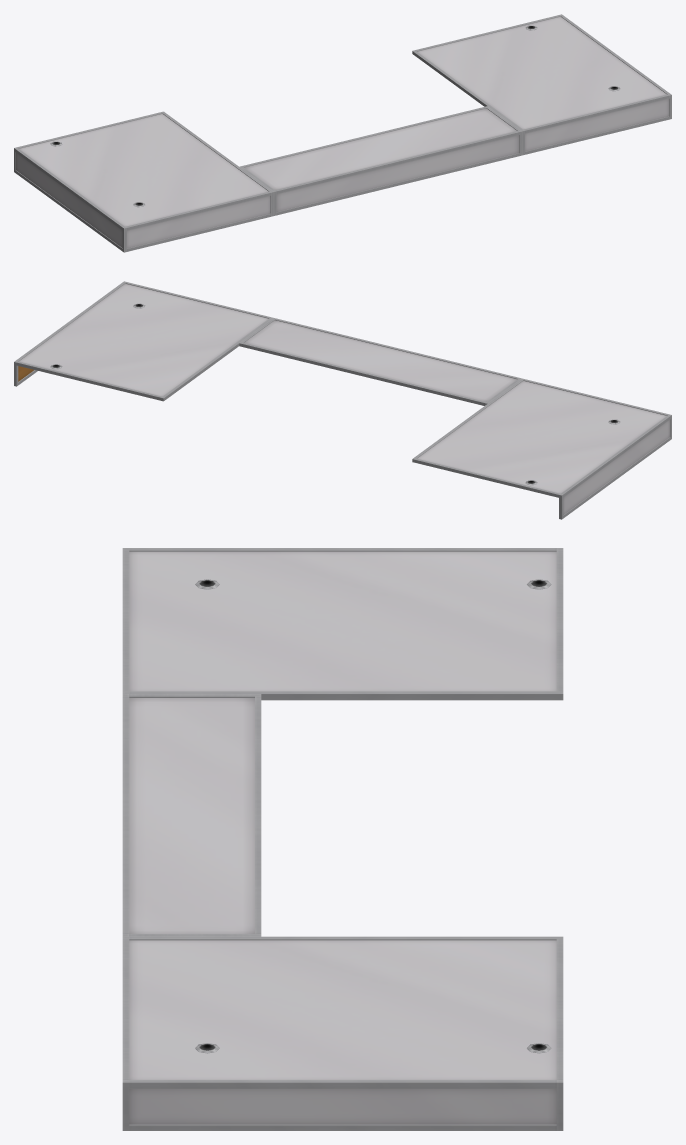
The model's file is jsf_4P_s03_c04_t03_DX.fbx.
3 views of the same model, one above another, from view 1: azimuth 30°, elevation 25°; view 2: azimuth 150°, elevation 25°; view 3: azimuth 270°, elevation 25° (orthographic). The views are drawn at different scales.
Visible parts, largest first — view 1: jsf_4P_s03_c04_t03_DX; view 2: jsf_4P_s03_c04_t03_DX; view 3: jsf_4P_s03_c04_t03_DX.
Part boxes in pixels (left/top/right/bottom): jsf_4P_s03_c04_t03_DX: left=14, top=14, right=671, bottom=252; jsf_4P_s03_c04_t03_DX: left=14, top=281, right=671, bottom=519; jsf_4P_s03_c04_t03_DX: left=122, top=548, right=563, bottom=1130.
Bounding box in the file's own units: 298 × 12.99 × 104.
